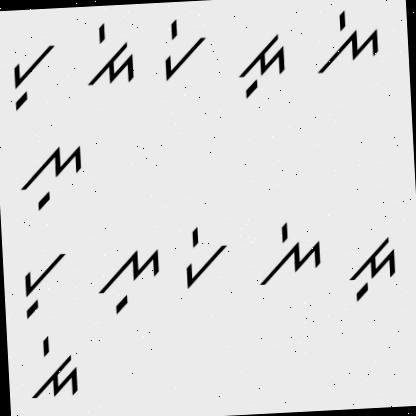de: (20, 330, 82, 404), (82, 19, 141, 89)
du: (231, 29, 293, 102), (345, 231, 402, 304)
ne: (252, 214, 326, 297), (308, 5, 386, 81)
nu: (14, 137, 90, 213), (92, 242, 166, 314)
pe: (152, 12, 210, 82), (174, 222, 230, 290)
pu: (5, 34, 63, 115), (17, 248, 71, 318)
